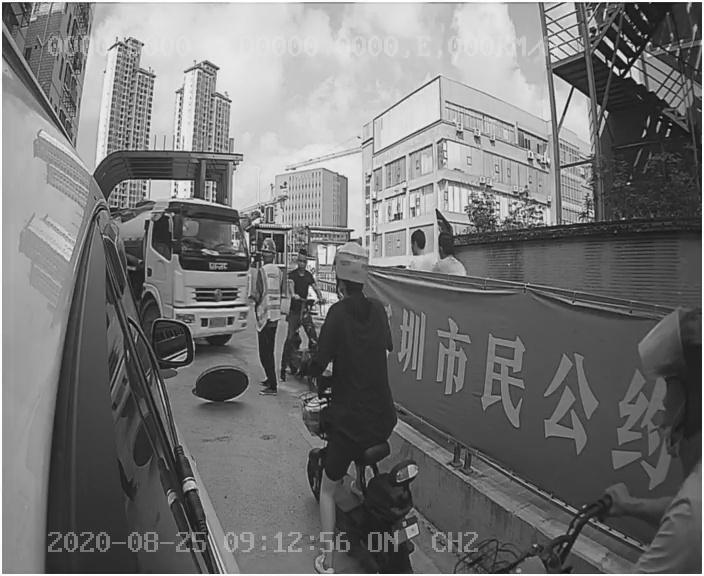person: (247, 240, 292, 395)
